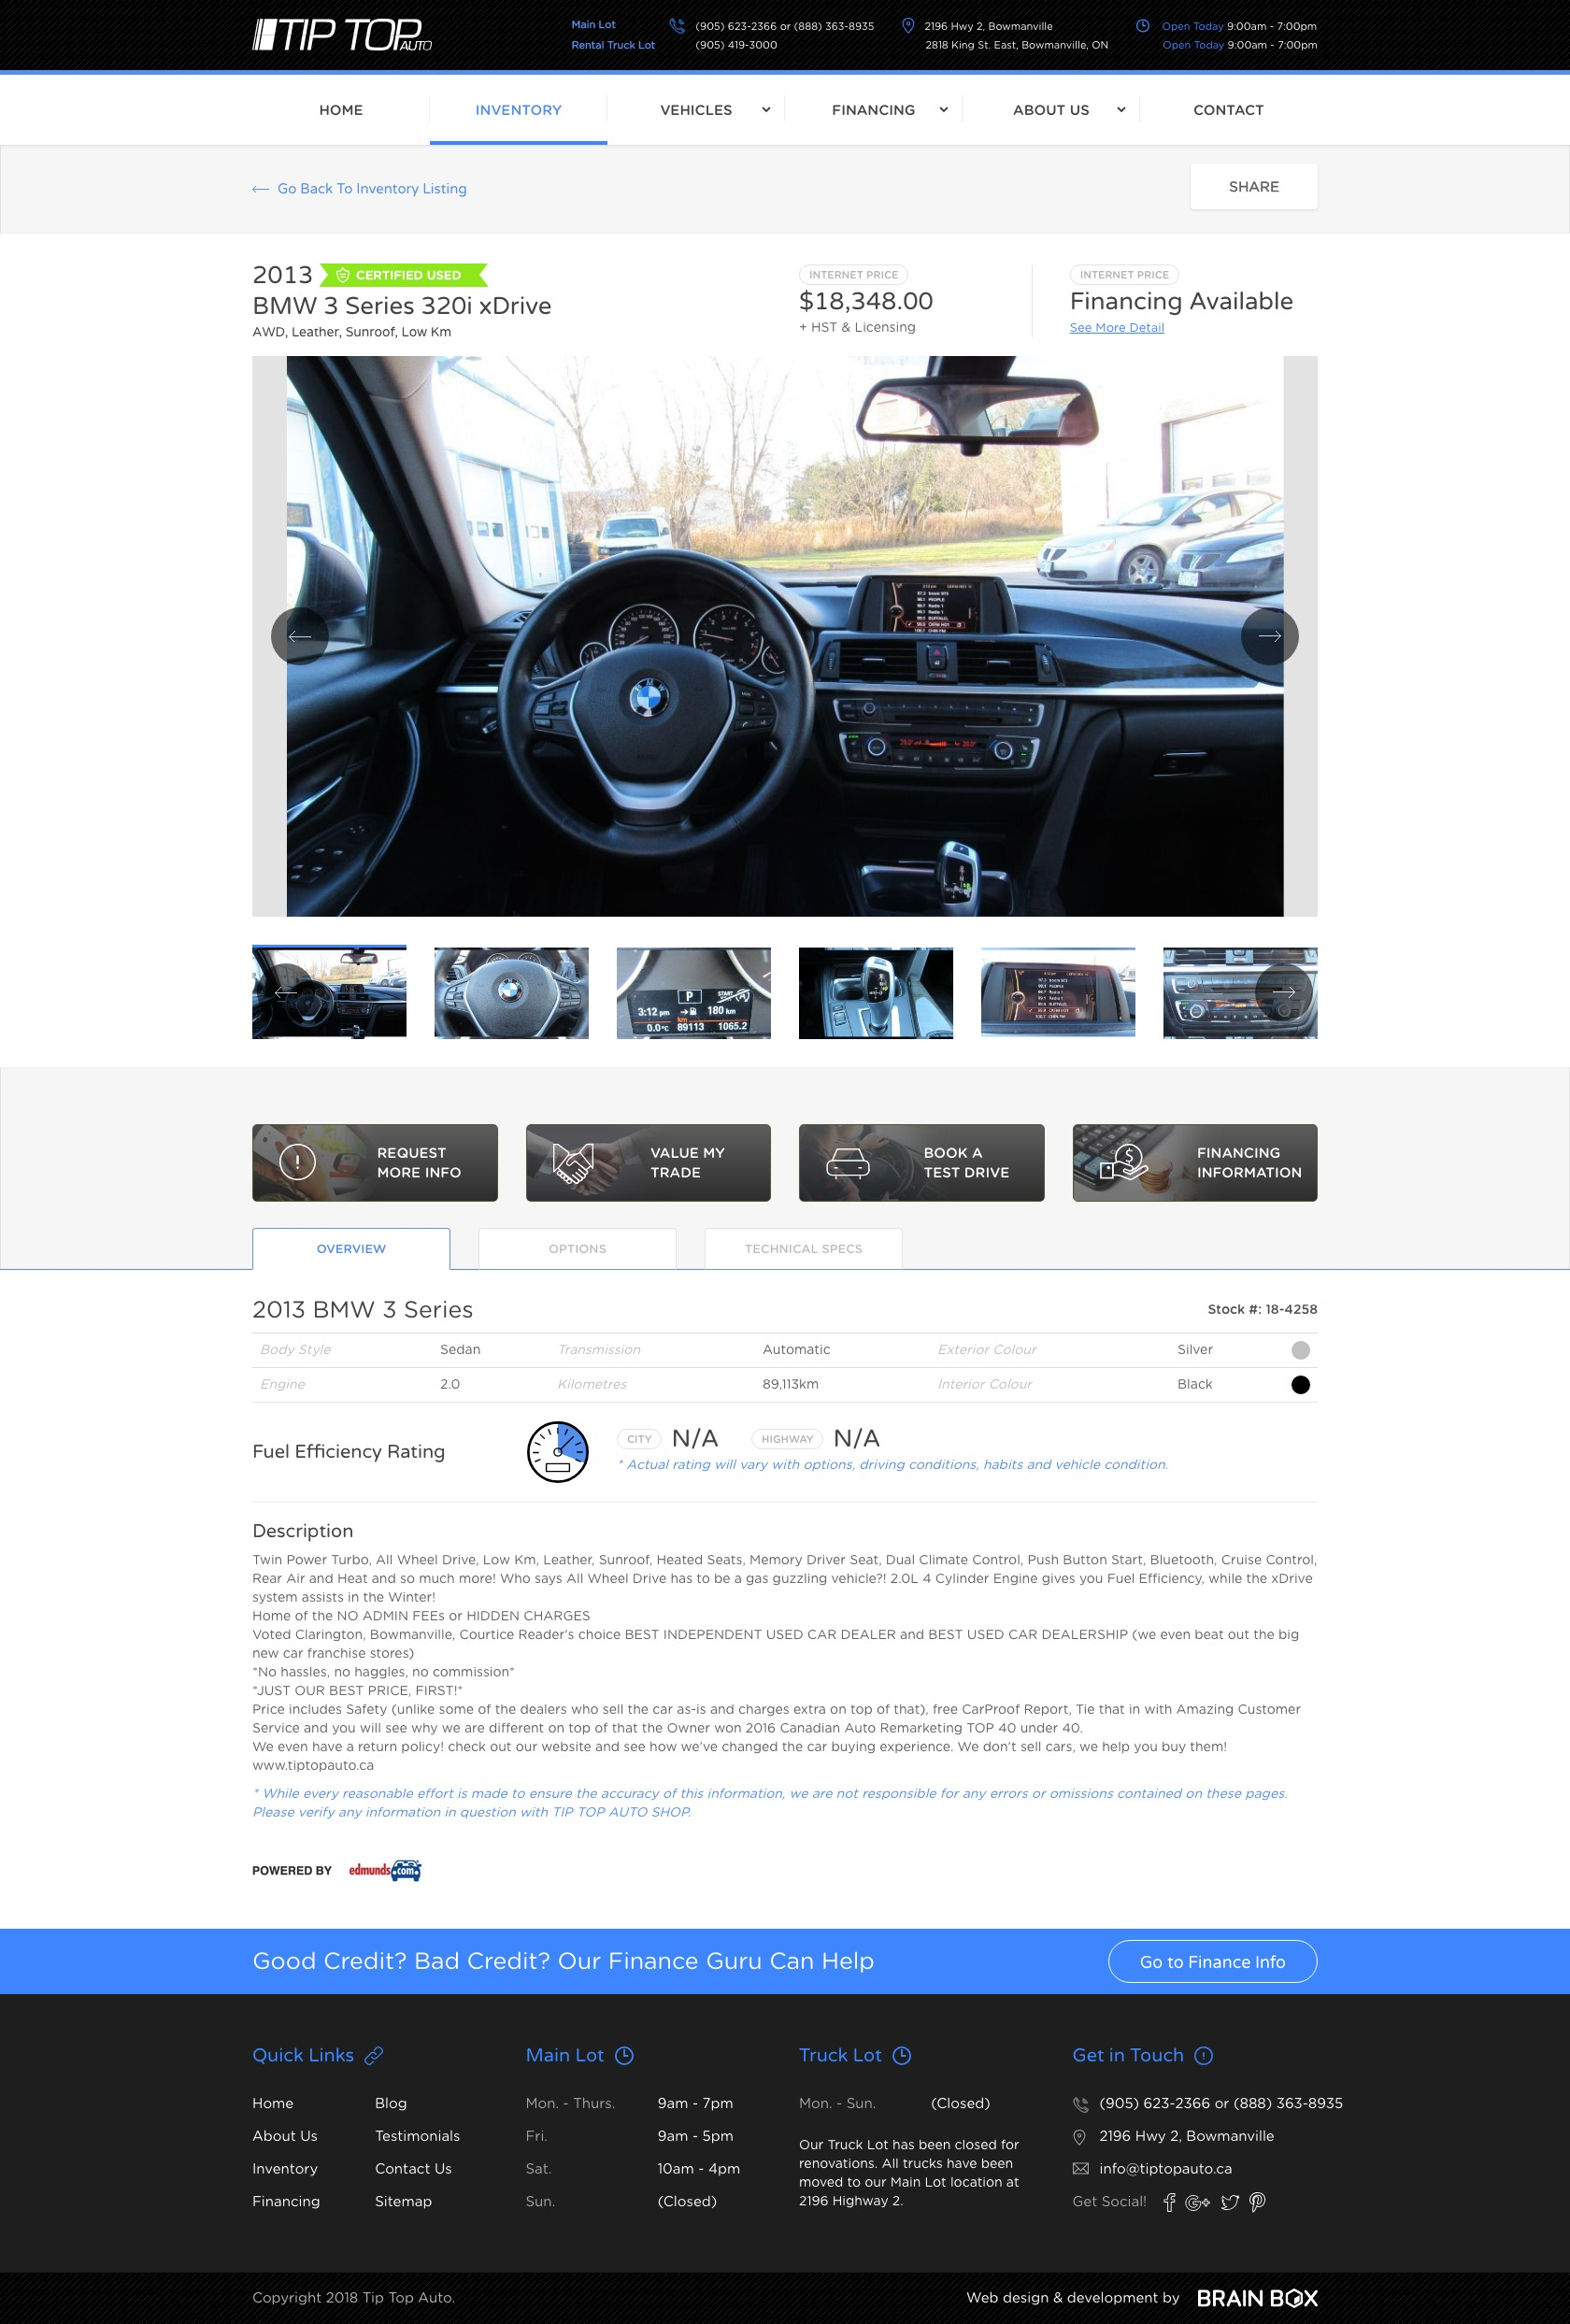car: (1274, 986, 1297, 998)
